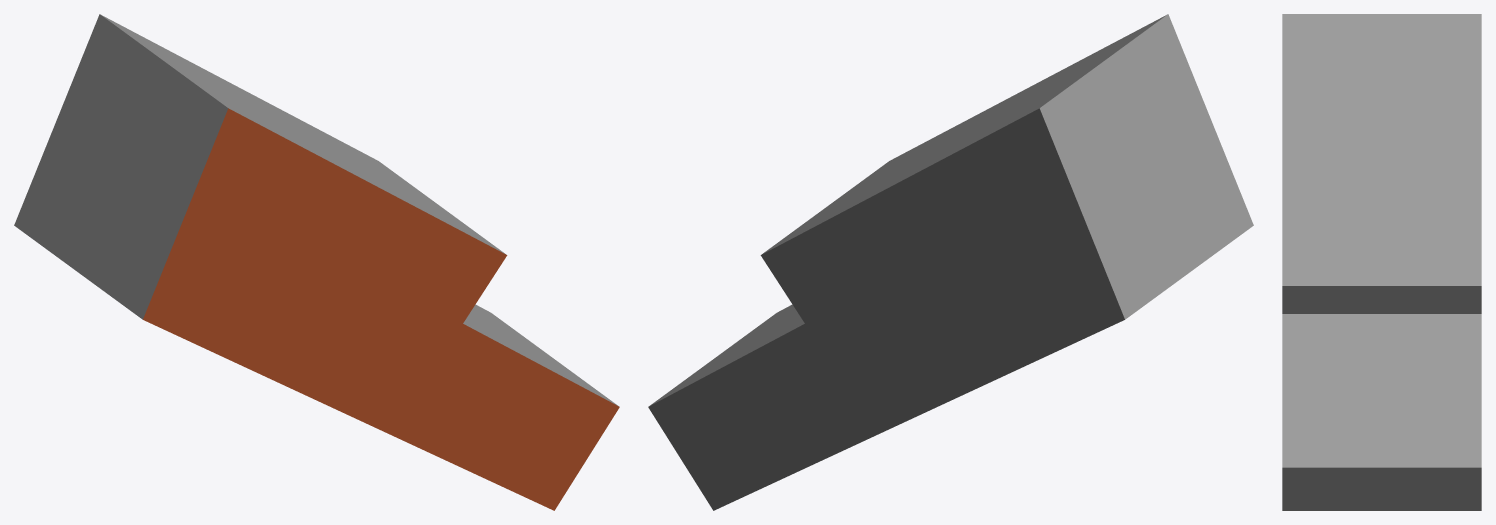
File: construction_0494_assumed_A_Casa_h6m.obj
3 renders of one model, left to right at view 1: azimuth 30°, elevation 25°; view 2: azimuth 150°, elevation 25°; view 3: azimuth 270°, elevation 25°, orthographic. The views are drawn at different scales.
Visible parts, largest first — view 1: construction_0494_assumed_A_Casa; view 2: construction_0494_assumed_A_Casa; view 3: construction_0494_assumed_A_Casa.
Boxes of the visible parts, box(x1,y1,x2,y2) form: construction_0494_assumed_A_Casa: box(14, 14, 619, 510); construction_0494_assumed_A_Casa: box(648, 14, 1253, 510); construction_0494_assumed_A_Casa: box(1282, 14, 1481, 510).
Bounding box in the file's own units: 12.83 × 12.4 × 6.
